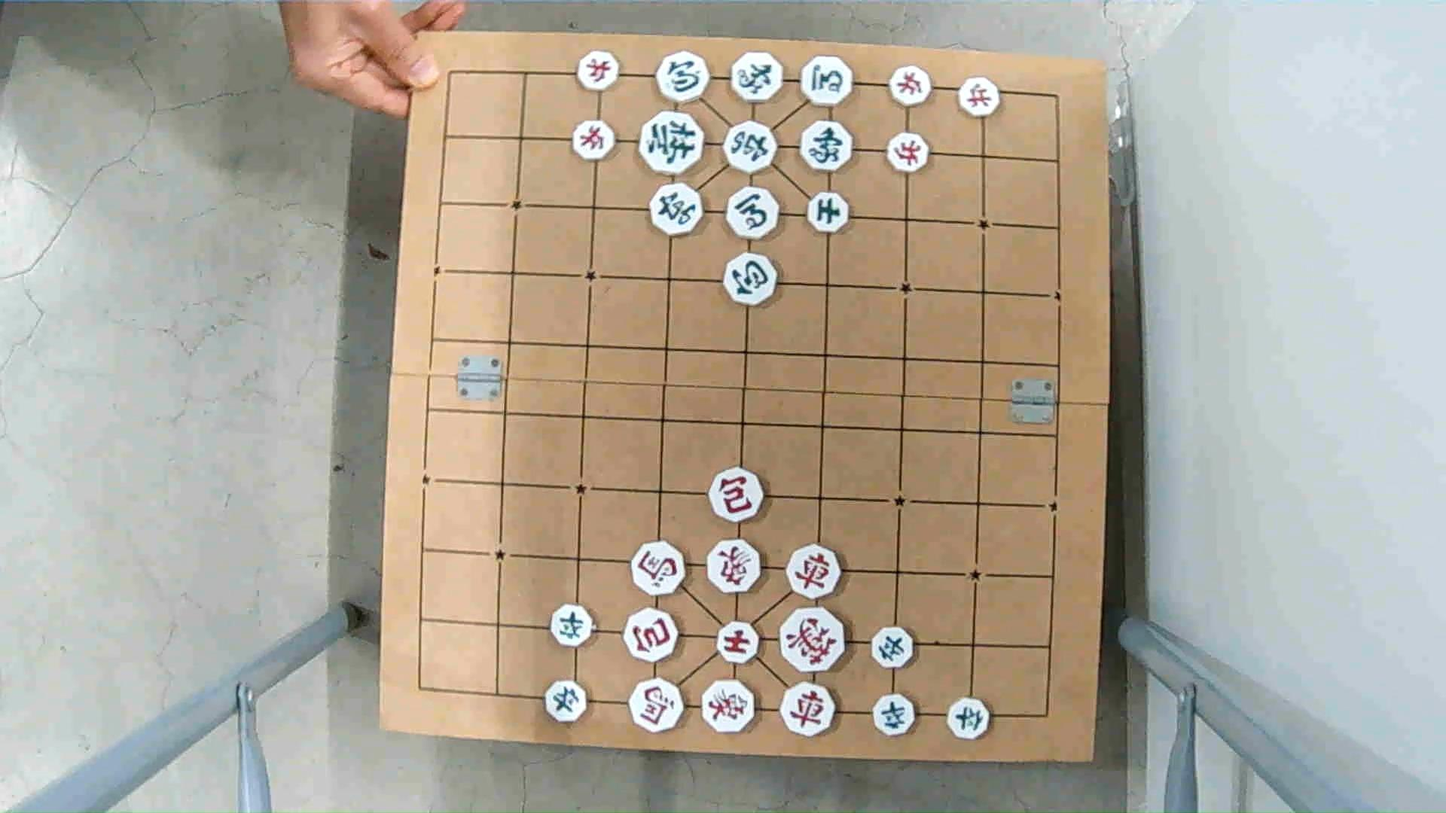cha_green: (724, 123, 780, 172), (650, 187, 706, 236)
cha_red: (781, 682, 835, 737), (785, 549, 843, 598)
jol_green: (866, 625, 917, 670), (944, 697, 990, 738), (548, 607, 593, 647), (545, 680, 590, 720), (872, 696, 918, 735)
jol_red: (575, 52, 621, 94), (572, 119, 618, 160), (888, 66, 933, 105), (884, 134, 929, 171), (957, 80, 1001, 117)
ma_green: (728, 190, 782, 241), (796, 59, 852, 107)
ma_red: (629, 544, 685, 595), (630, 682, 686, 732)
po_green: (655, 51, 712, 102), (725, 255, 780, 305)
po_red: (706, 473, 764, 522), (623, 611, 679, 660)
sa_green: (805, 194, 848, 233)
sa_red: (714, 623, 759, 662)
sang_green: (801, 121, 856, 169), (729, 53, 784, 101)
sang_red: (700, 682, 759, 732), (706, 544, 764, 594)
wang_green: (638, 112, 703, 171)
wang_red: (779, 611, 847, 671)
